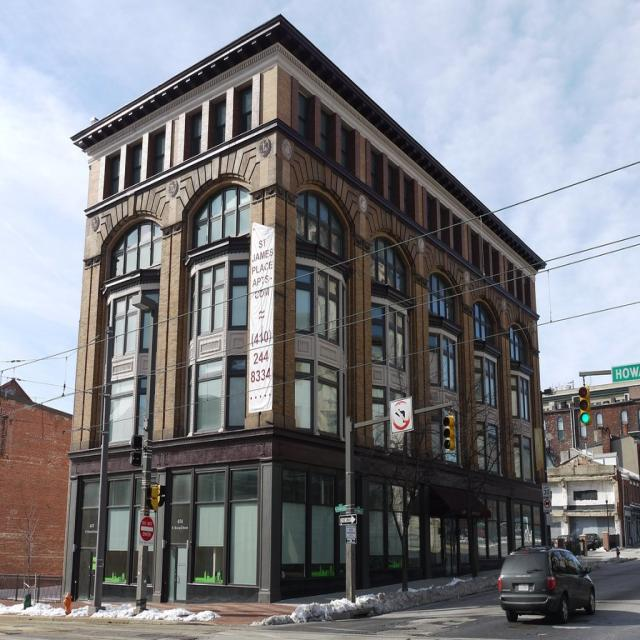car: (498, 553, 594, 629)
